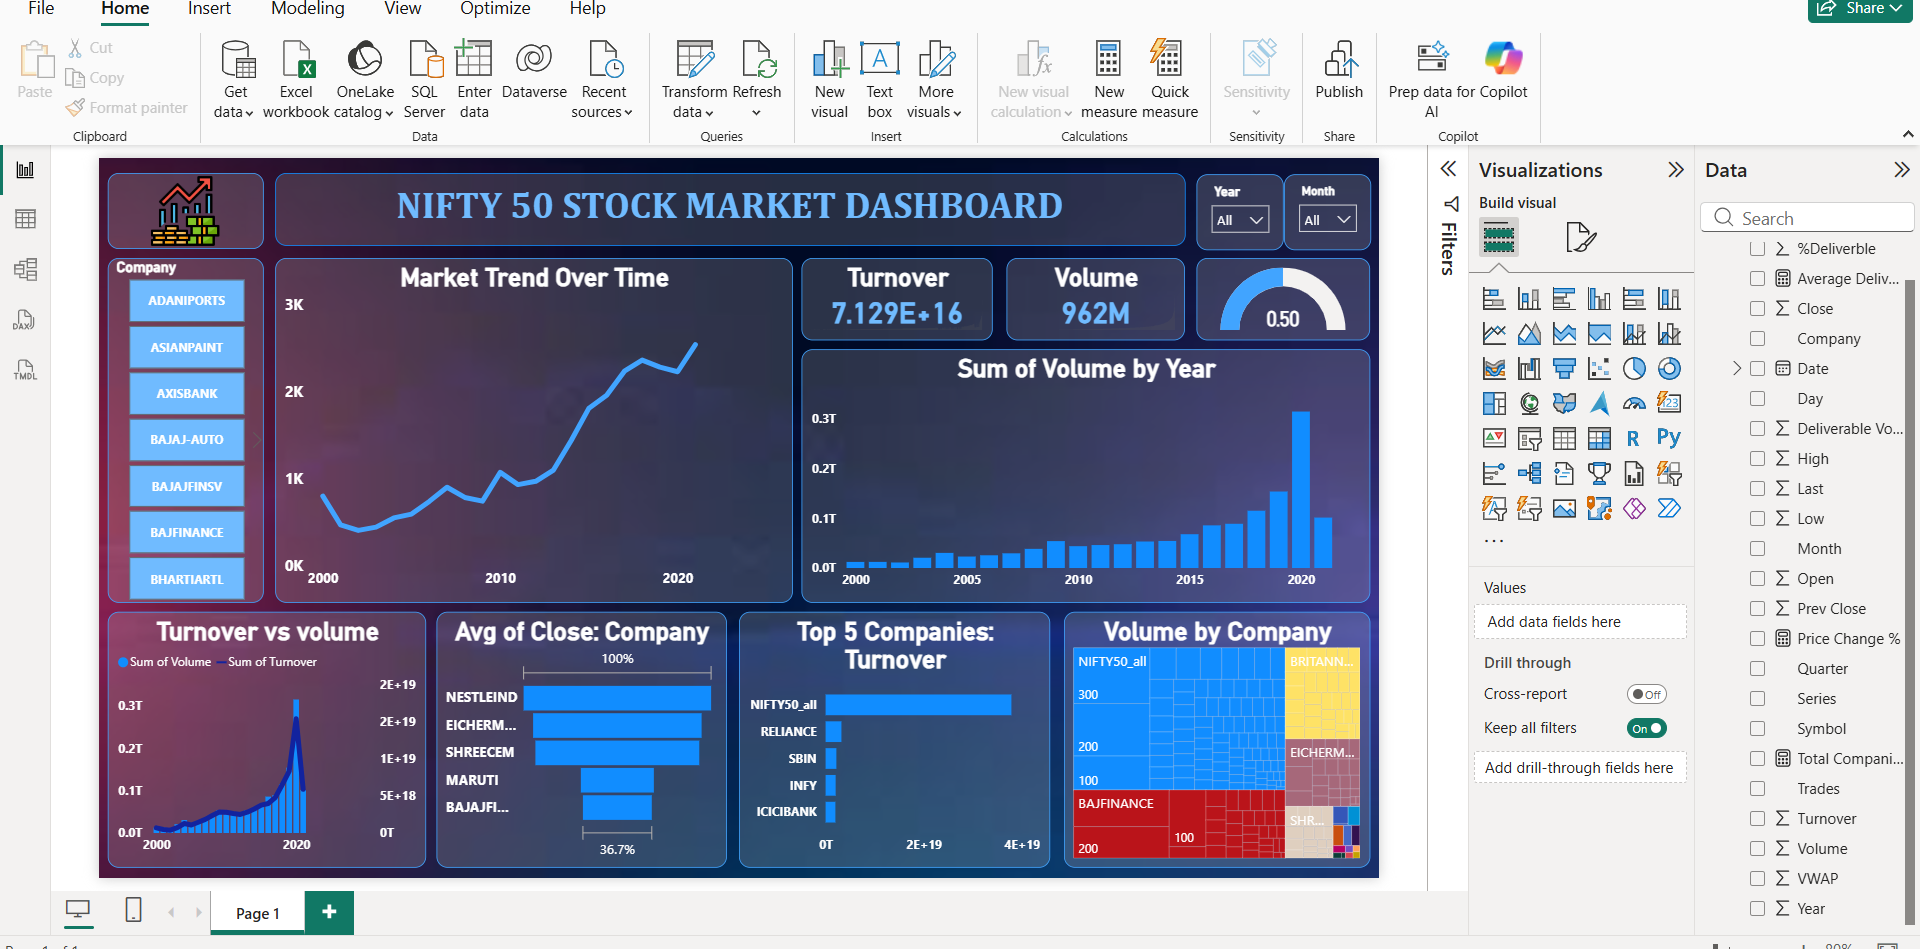

This screenshot's page, from the dashboard's own definition file:
{"tool":"powerbi","page":{"name":"Page 1","canvas":[1280,720],"ordinal":0},"visuals":[{"type":"lineChart","title":"Market Trend Over Time","fields":{"Category":["Raw Dataset.Year"],"Y":["Avg(Raw Dataset.Close)"]},"box":[176.2,100,517.5,345],"z":0},{"type":"treemap","title":"Volume by Company","fields":{"Group":["Raw Dataset.Company"],"Values":["Sum(Raw Dataset.Volume)"],"Details":["Raw Dataset.Volume"]},"box":[965,453.8,306.2,256.2],"z":1000},{"type":"textbox","box":[176.2,15,910,72.5],"z":2000},{"type":"columnChart","fields":{"Category":["Raw Dataset.Year"],"Y":["Sum(Raw Dataset.Volume)"]},"box":[702.5,191.2,568.8,253.8],"z":3000},{"type":"gauge","fields":{"Y":["Raw Dataset.Average Delivery"]},"box":[1097.5,100,173.8,82.5],"z":4000},{"type":"barChart","title":"Top 5 Companies: Turnover","fields":{"Category":["Raw Dataset.Company"],"Y":["Sum(Raw Dataset.Turnover)"]},"box":[640,453.8,311.2,256.2],"z":5000},{"type":"funnel","title":"Avg of Close: Company","fields":{"Category":["Raw Dataset.Company"],"Y":["Avg(Raw Dataset.Close)"]},"box":[337.5,453.8,290,256.2],"z":6000},{"type":"lineStackedColumnComboChart","title":"Turnover vs volume","fields":{"Category":["Raw Dataset.Year"],"Y":["Sum(Raw Dataset.Volume)"],"Y2":["Sum(Raw Dataset.Turnover)"]},"box":[8.8,453.8,318.8,256.2],"z":7000},{"type":"slicer","fields":{"Values":["Raw Dataset.Company"]},"box":[8.8,100,156.2,345],"z":7001},{"type":"kpi","title":"Turnover","fields":{"Indicator":["Sum(Raw Dataset.Turnover)"],"TrendLine":["Raw Dataset.Turnover"]},"box":[702.5,100,191.2,82.5],"z":7002},{"type":"kpi","title":"Volume","fields":{"Indicator":["Sum(Raw Dataset.Volume)"],"TrendLine":["Raw Dataset.Volume"]},"box":[907.5,100,178.8,82.5],"z":7003},{"type":"slicer","fields":{"Values":["Raw Dataset.Year"]},"box":[1097.5,16.2,87.5,76.2],"z":7004},{"type":"slicer","fields":{"Values":["Raw Dataset.Month"]},"box":[1185,16.2,87.5,76.2],"z":7005},{"type":"image","box":[8.8,15,156.2,76.2],"z":7006}]}

Visuals, with their boxes on the page's 1280x720 design canvas (x1, y1, x2, y2). These are canvas units, not pixel positions in the 1920x949 screenshot, which may show the page scaled, cropped or inside an application window:
"Market Trend Over Time" lineChart: (176,100,694,445)
"Volume by Company" treemap: (965,454,1271,710)
textbox: (176,15,1086,88)
columnChart - Raw Dataset.Year x Sum(Raw Dataset.Volume): (702,191,1271,445)
gauge - Raw Dataset.Average Delivery: (1098,100,1271,182)
"Top 5 Companies: Turnover" barChart: (640,454,951,710)
"Avg of Close: Company" funnel: (338,454,628,710)
"Turnover vs volume" lineStackedColumnComboChart: (9,454,328,710)
slicer - Raw Dataset.Company: (9,100,165,445)
"Turnover" kpi: (702,100,894,182)
"Volume" kpi: (908,100,1086,182)
slicer - Raw Dataset.Year: (1098,16,1185,92)
slicer - Raw Dataset.Month: (1185,16,1272,92)
image: (9,15,165,91)
